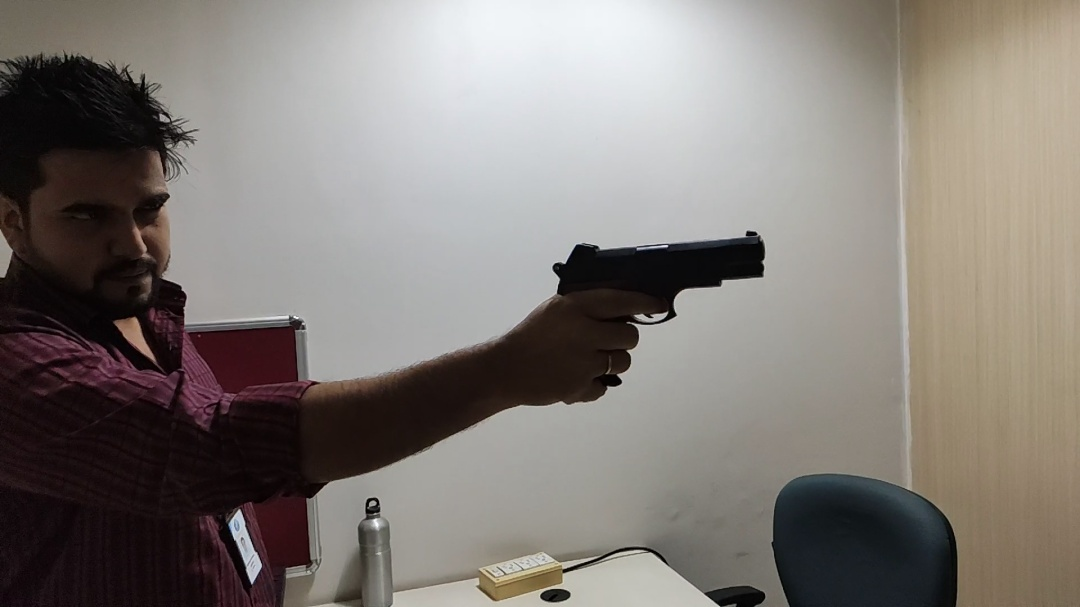gun: (314, 22, 672, 525)
